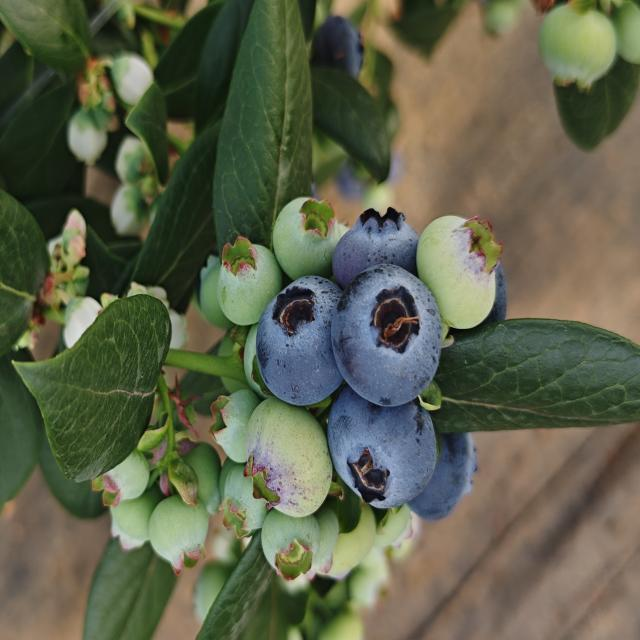ripe: (332, 259, 456, 408), (319, 376, 440, 504), (253, 271, 349, 406), (325, 196, 423, 292), (406, 414, 482, 524), (305, 9, 374, 107), (443, 247, 511, 344)
